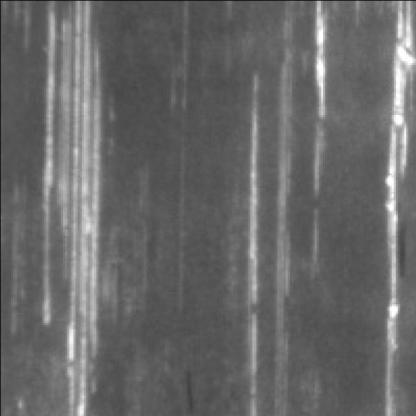scratches: (40, 6, 108, 414), (383, 6, 416, 416), (240, 75, 271, 416), (310, 4, 337, 258)
